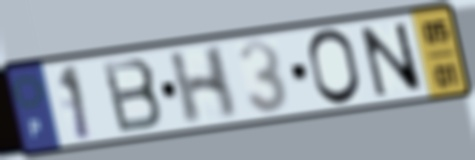1: (54, 61, 97, 142)
3: (238, 36, 289, 119)
B: (98, 55, 166, 137)
H: (166, 42, 240, 129)
N: (356, 20, 427, 100)
O: (305, 26, 364, 108)
